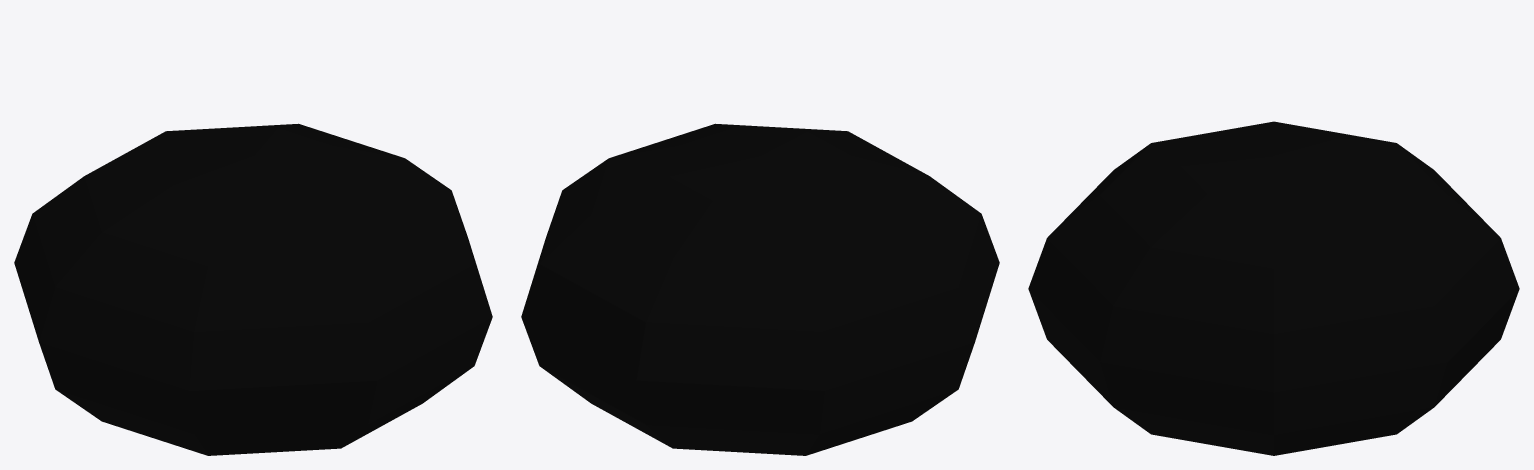
File: BloomingBrew.glb
3 views of the same model, side by side, from view 1: azimuth 30°, elevation 25°; view 2: azimuth 150°, elevation 25°; view 3: azimuth 270°, elevation 25° (orthographic).
Visible parts, largest first — view 1: Item; view 2: Item; view 3: Item.
Boxes of the visible parts, x1,y1,x2,y2 form: Item: [14, 123, 492, 455]; Item: [521, 123, 999, 455]; Item: [1028, 121, 1519, 455].
Bounding box in the file's own units: 1.85 × 1.55 × 1.85.
Materials: 4 (4 with a texture image).
